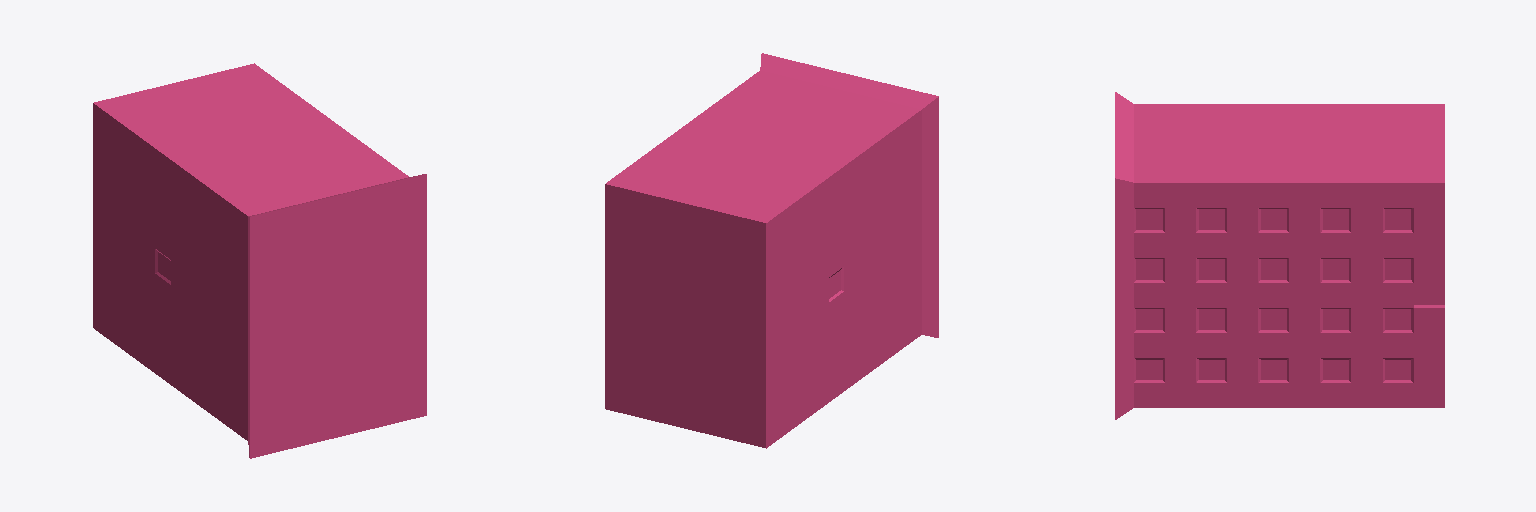
The model's file is OrajeGebouw.obj.
3 renders of one model, left to right at view 1: azimuth 30°, elevation 25°; view 2: azimuth 150°, elevation 25°; view 3: azimuth 270°, elevation 25°, orthographic.
Parts seen in each view (by area): view 1: EersteGebouwLinks; view 2: EersteGebouwLinks; view 3: EersteGebouwLinks.
Part boxes in pixels (left/top/right/bottom): EersteGebouwLinks: left=93, top=63, right=426, bottom=458; EersteGebouwLinks: left=605, top=53, right=938, bottom=448; EersteGebouwLinks: left=1115, top=92, right=1444, bottom=419.
Size of the model in its own units: 1299 by 1693 by 2087.